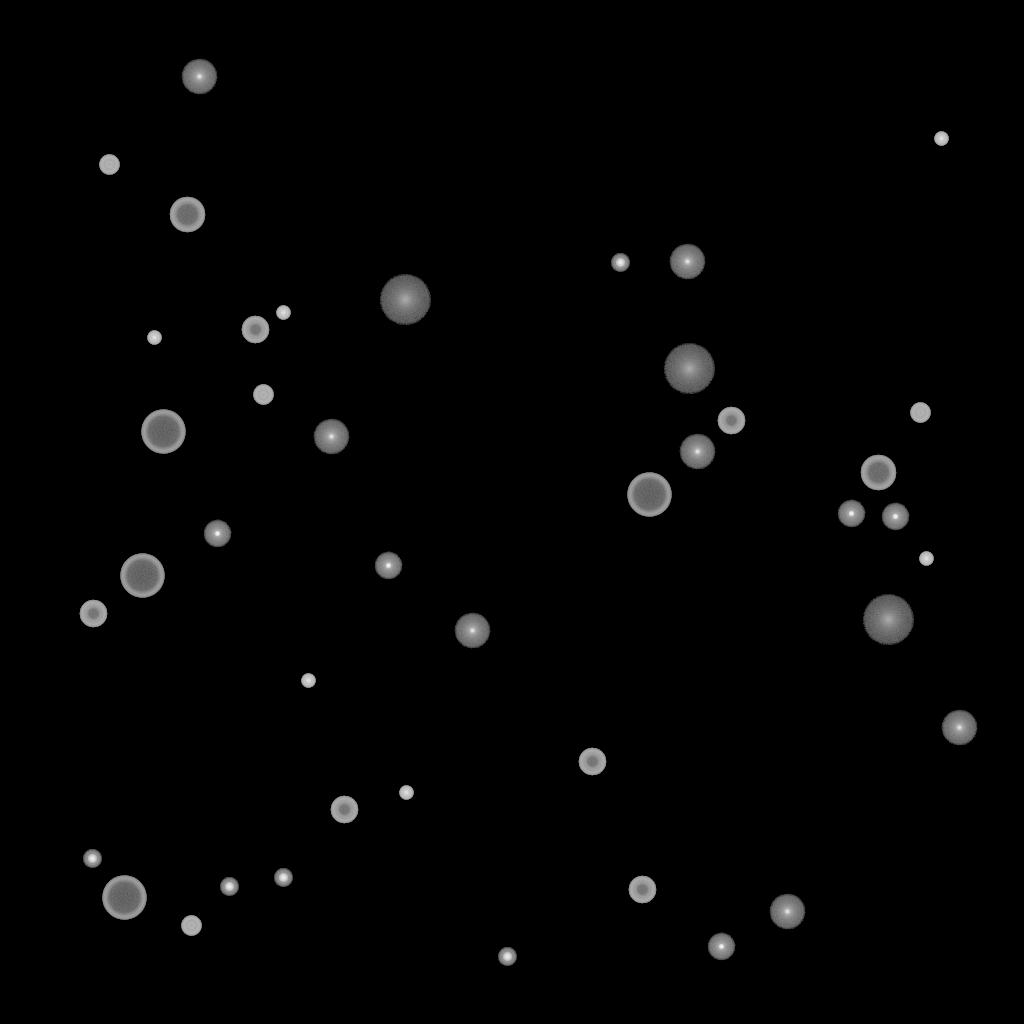depth:-10: (203, 520, 231, 548), (374, 552, 402, 580), (881, 503, 909, 531), (837, 500, 865, 528), (707, 933, 735, 961)
depth:-20: (498, 948, 516, 966), (274, 869, 292, 887), (220, 878, 238, 896), (83, 850, 101, 868), (611, 254, 629, 272)
depth:-30: (399, 786, 413, 800), (276, 306, 290, 320), (919, 552, 933, 566), (301, 674, 315, 688), (147, 331, 161, 345), (934, 132, 948, 146)
depth:-40: (181, 916, 201, 936), (910, 403, 930, 423), (253, 385, 273, 405), (99, 155, 119, 175)
depth:-50: (628, 876, 656, 904), (717, 407, 745, 435), (330, 796, 358, 824), (578, 748, 606, 776), (241, 316, 269, 344), (79, 600, 107, 628)
depth:-60: (860, 455, 896, 491), (169, 197, 205, 233)
depth:-70: (141, 410, 185, 454), (627, 473, 671, 517), (102, 876, 146, 920), (120, 554, 164, 598)
depth:0: (181, 59, 217, 95), (454, 613, 490, 649), (313, 419, 349, 455), (669, 244, 705, 280), (769, 894, 805, 930), (941, 710, 977, 746), (679, 434, 715, 470)
depth:20: (379, 275, 431, 325), (862, 595, 914, 645), (663, 344, 715, 394)
